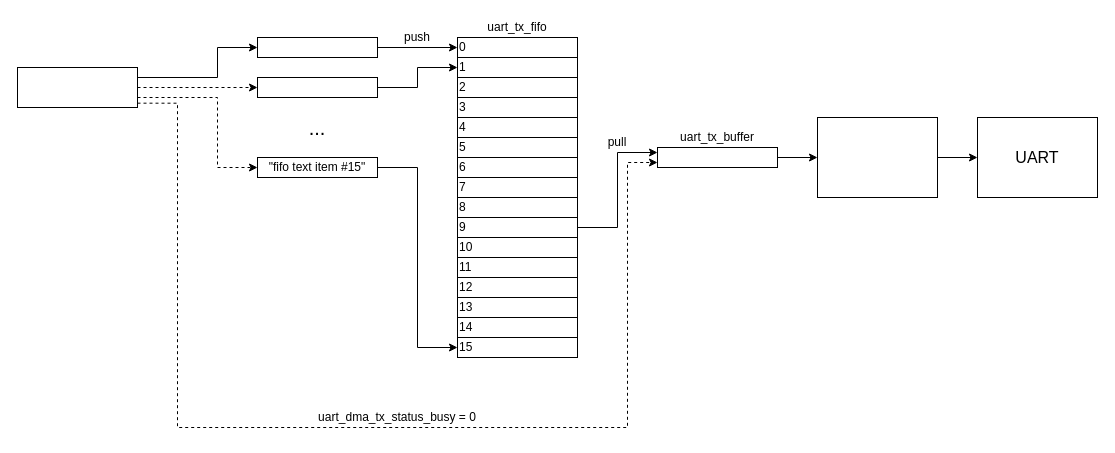
The diagram is 1115 pixels wide and 453 high, and some of its shapes have lost their labels. Each missing label, with the centre of its shape:
"fifo text item #0": [317,47]
"fifo text item #1": [317,87]
_write(): [77,87]
DMA: [877,157]
